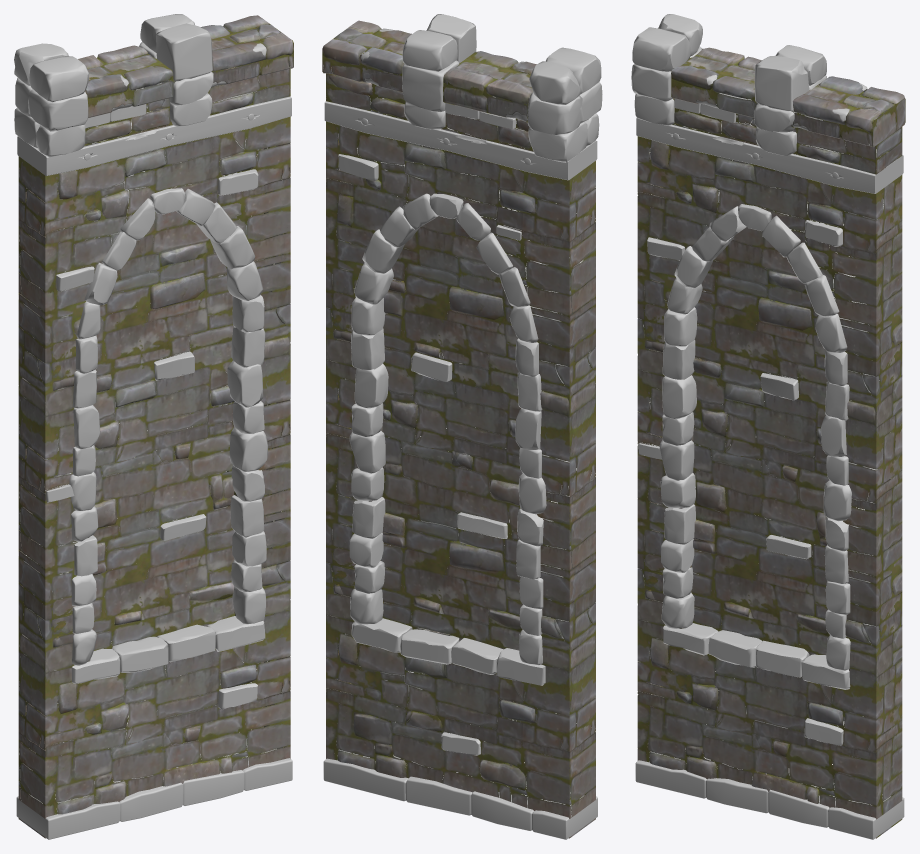
The picture shows the model from 3 angles, left to right: view 1: azimuth 30°, elevation 25°; view 2: azimuth 150°, elevation 25°; view 3: azimuth 330°, elevation 25°; orthographic projection. The views are drawn at different scales.
Visible parts, largest first — view 1: SM_Castle_Wall_4x12_01_v2_LOD0; view 2: SM_Castle_Wall_4x12_01_v2_LOD0; view 3: SM_Castle_Wall_4x12_01_v2_LOD0.
Boxes of the visible parts, left/top/right/bottom form: SM_Castle_Wall_4x12_01_v2_LOD0: left=14, top=14, right=293, bottom=839; SM_Castle_Wall_4x12_01_v2_LOD0: left=322, top=14, right=602, bottom=839; SM_Castle_Wall_4x12_01_v2_LOD0: left=631, top=14, right=905, bottom=839.
Size of the model in its own units: 4.03 by 12 by 1.09.
